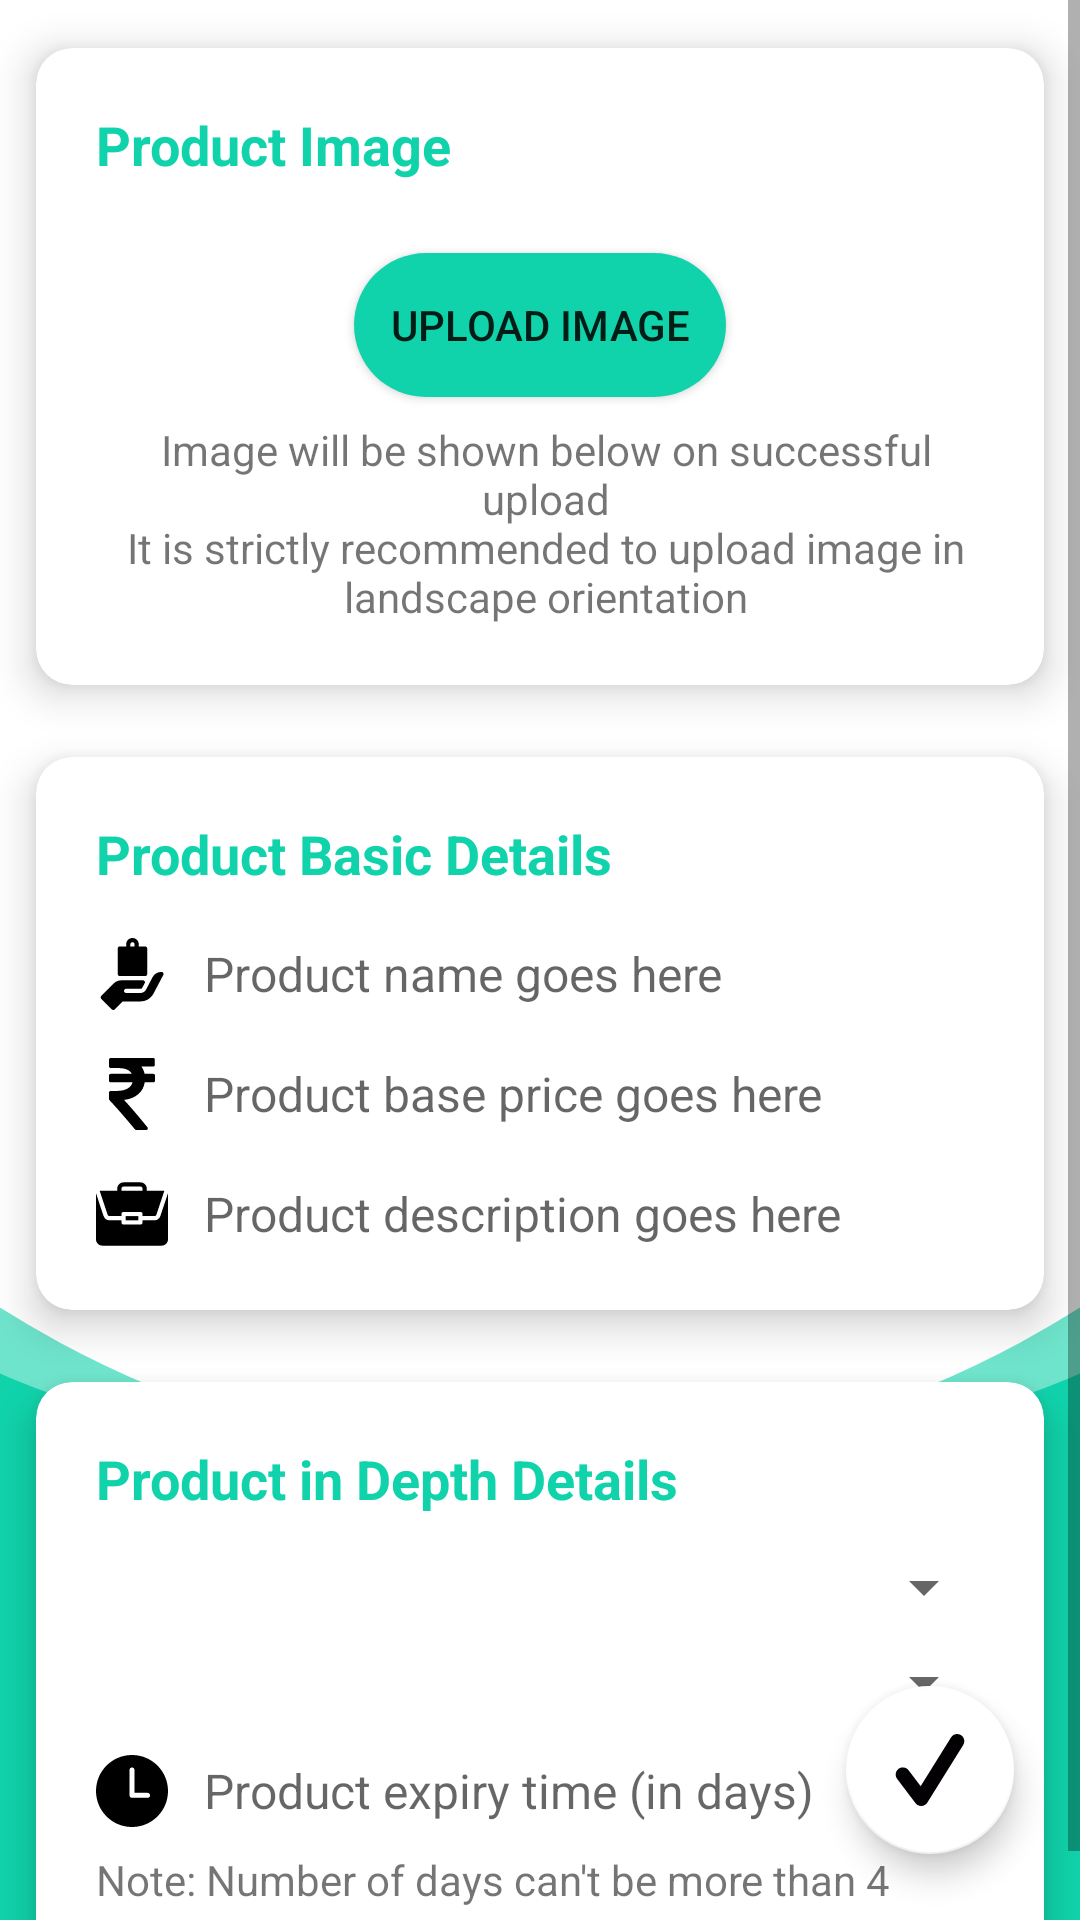

Named icons in this screenshot (1080 × 1920) and their centers, [x,y]:
done: [908,1770]
